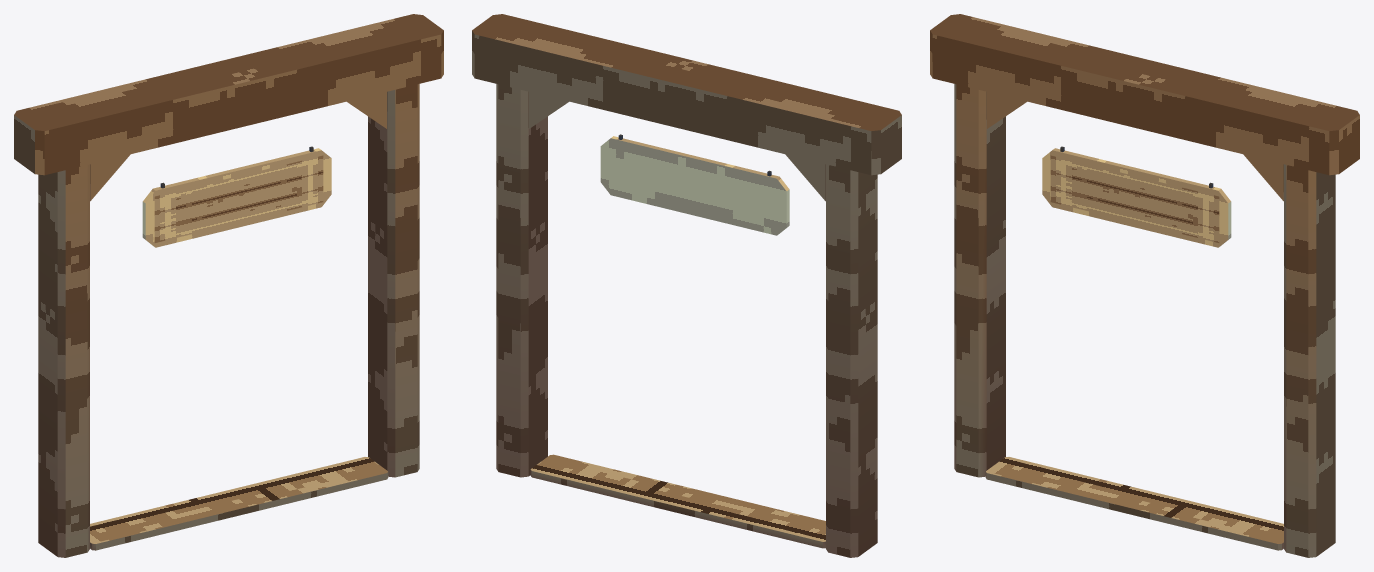
The model's file is wtown.doorway__gate.glb.
3 views of the same model, side by side, from view 1: azimuth 30°, elevation 25°; view 2: azimuth 150°, elevation 25°; view 3: azimuth 330°, elevation 25° (orthographic).
Visible parts, largest first — view 1: kit_posts, kit_header, kit_sill, kit_card_panes, kit_sign, kit_corbels; view 2: kit_posts, kit_header, kit_sign, kit_sill, kit_corbels; view 3: kit_posts, kit_header, kit_sill, kit_card_panes, kit_sign, kit_corbels.
Boxes of the visible parts, x1,y1,x2,y2 form: kit_posts: (38,84,419,557); kit_header: (14,14,443,175); kit_sill: (90,457,388,550); kit_card_panes: (154,155,323,242); kit_sign: (142,148,331,247); kit_corbels: (90,92,386,201); kit_posts: (496,84,877,557); kit_header: (472,14,901,175); kit_sign: (600,136,789,235); kit_sill: (530,454,825,548); kit_corbels: (529,92,825,201); kit_posts: (954,84,1335,557); kit_header: (930,14,1359,175); kit_sill: (985,457,1283,550); kit_card_panes: (1050,155,1219,242); kit_sign: (1042,148,1231,247); kit_corbels: (987,92,1283,201).
Bounding box in the file's own units: 3.3 × 3.34 × 0.39.
6 materials, 6 textured.
